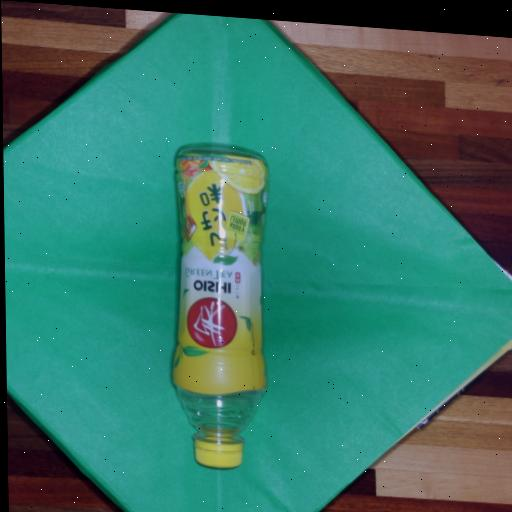bottle: (151, 126, 285, 487)
